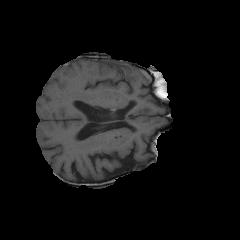glioma: (101, 60, 165, 97)
